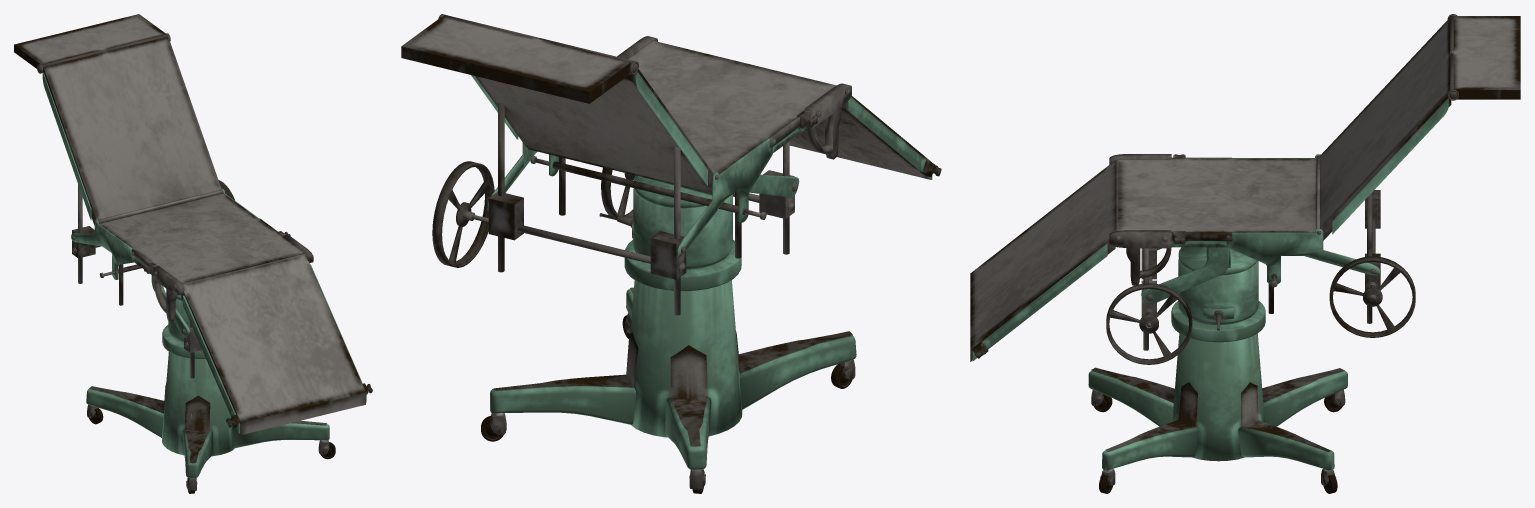
The model's file is stol_operacyjny.glb.
The picture shows the model from 3 angles, left to right: view 1: azimuth 30°, elevation 25°; view 2: azimuth 150°, elevation 25°; view 3: azimuth 270°, elevation 25°; orthographic projection. The views are drawn at different scales.
Parts seen in each view (by area): view 1: Cube.136; view 2: Cube.136; view 3: Cube.136.
Boxes of the visible parts, <box> form: Cube.136: <box>14,14,372,493</box>; Cube.136: <box>401,14,941,493</box>; Cube.136: <box>970,14,1520,493</box>.
Size of the model in its own units: 0.5886 by 1.11 by 1.41.
1 material, 1 textured.
